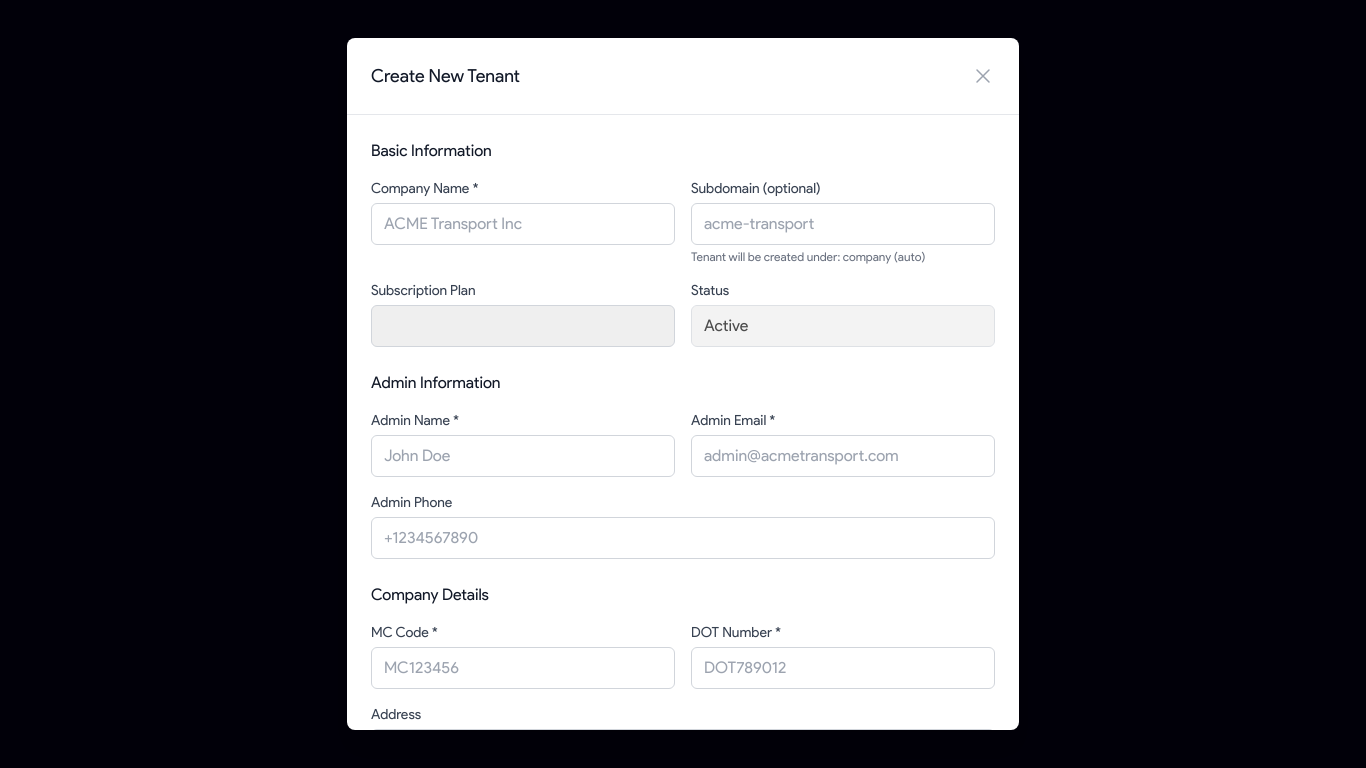
Test: TenantCreateModal › validates subdomain format
Expected: the heading "Create New Tenant" is shown, [371, 62, 520, 90]
Type "Invalid Subdomain!" into the field with placeholder "acme-transport" at [843, 224], box [691, 203, 995, 245]
(page scrolled)
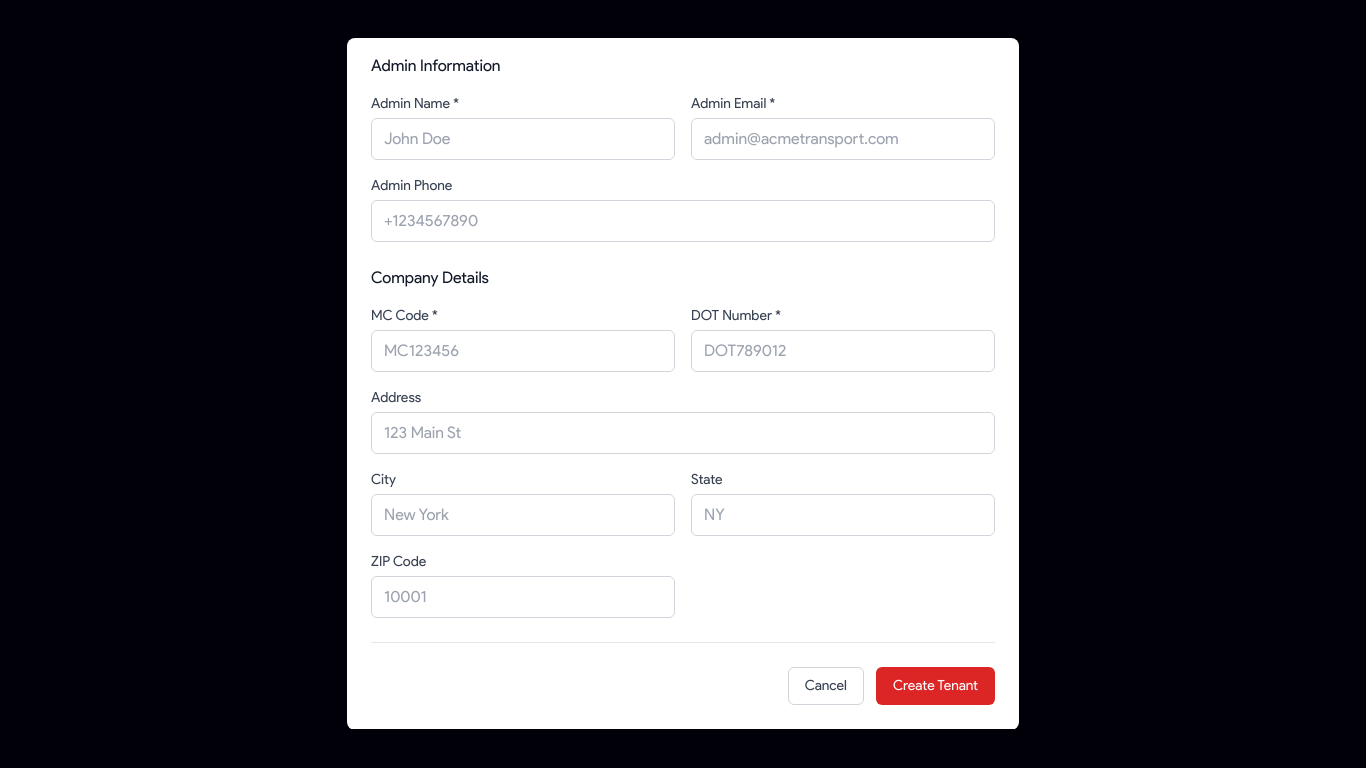
Click the button "Create Tenant" at [936, 686], box [876, 667, 995, 705]
(page scrolled)
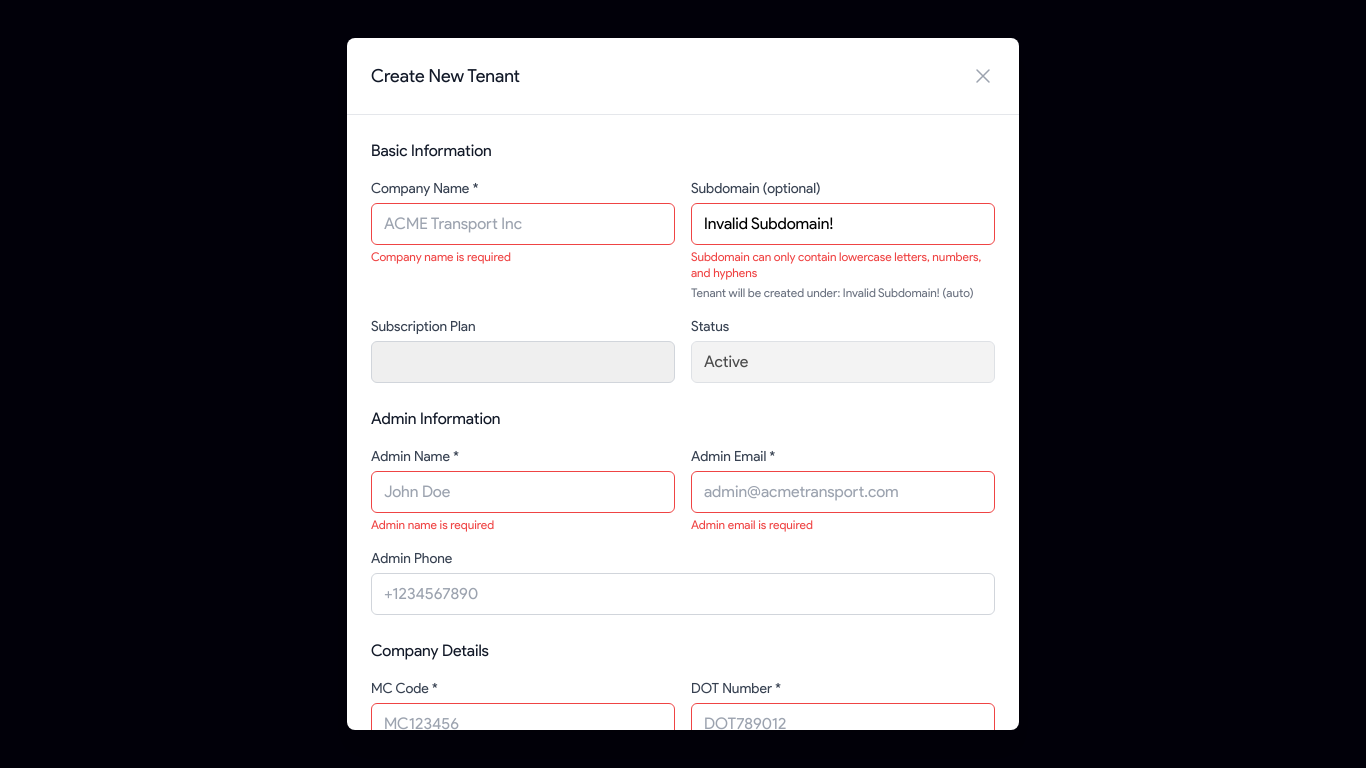
Expected: the text "Subdomain can only contain lowercase letters, numbers, and hyphens" is shown, [691, 249, 995, 281]
